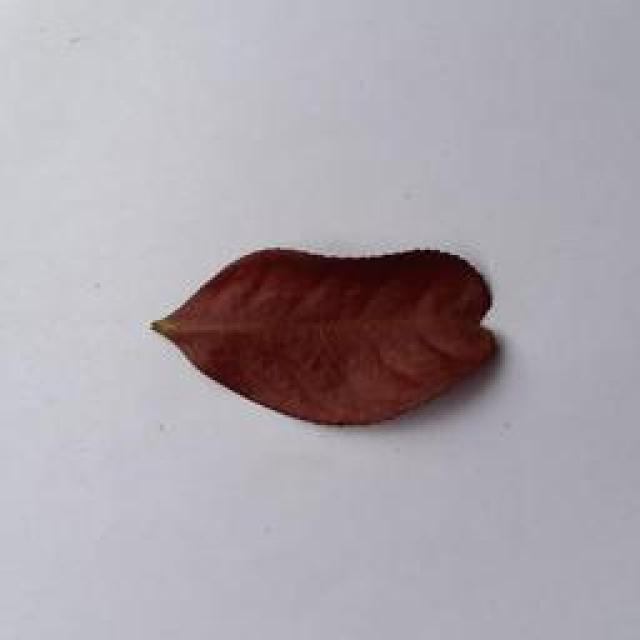Red Leaf Spot: (106, 224, 555, 481)
